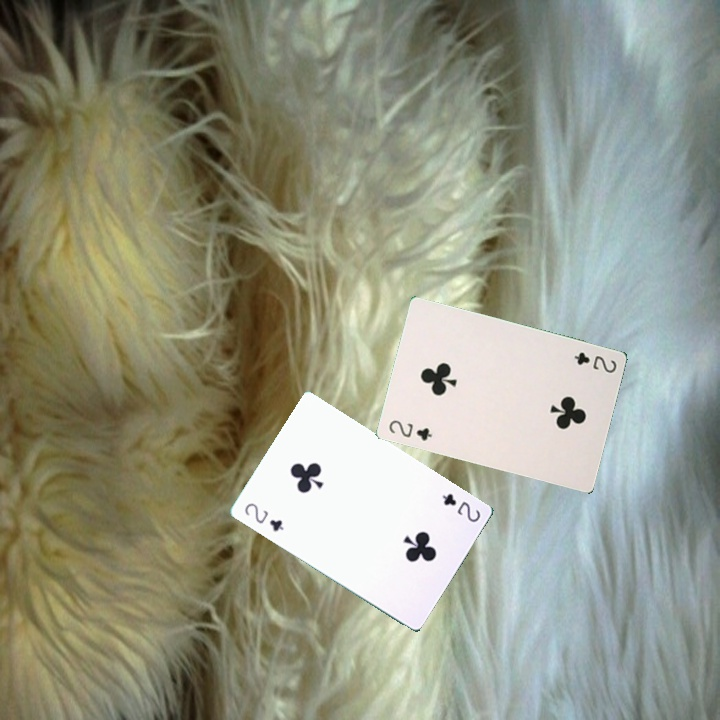2c: (240, 499, 286, 535), (437, 489, 483, 525), (385, 416, 435, 444), (570, 348, 619, 376)
